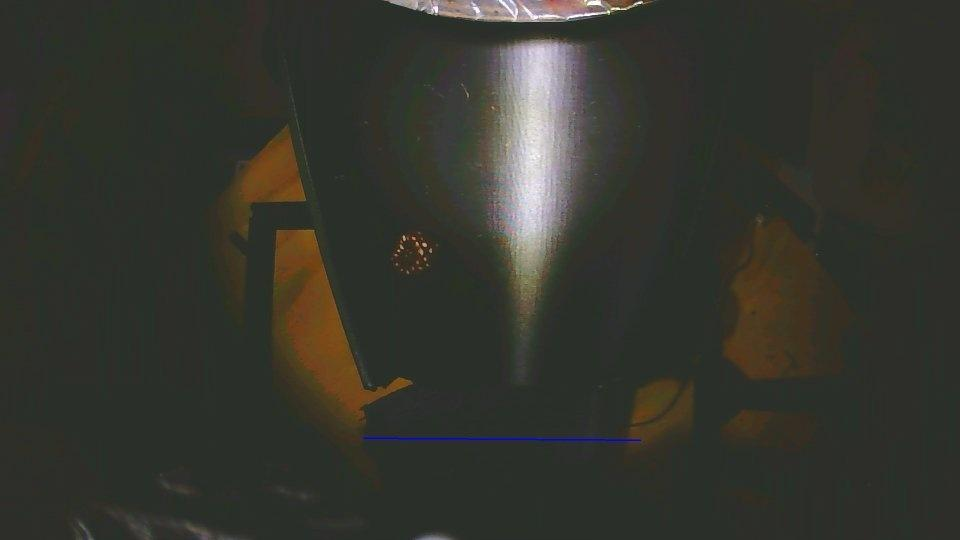berry: (391, 231, 437, 275)
